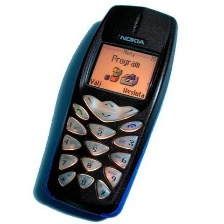phone: (37, 2, 179, 221)
